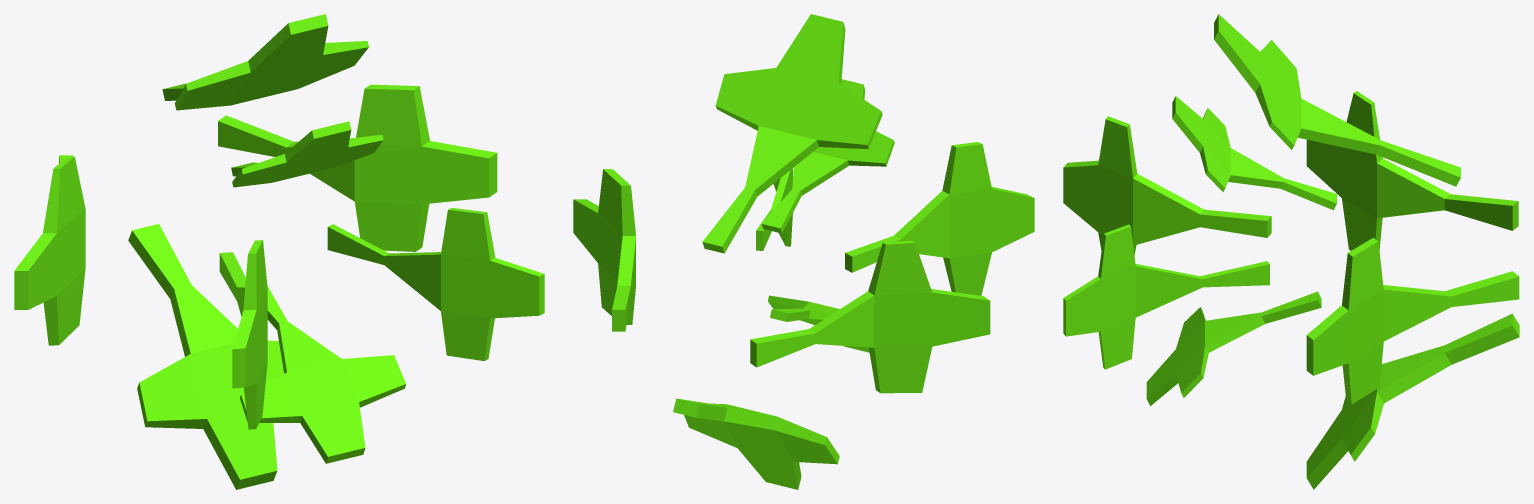
Rendered from CeleryLeaves.obj.
3 views of the same model, side by side, from view 1: azimuth 30°, elevation 25°; view 2: azimuth 150°, elevation 25°; view 3: azimuth 270°, elevation 25° (orthographic). The views are drawn at different scales.
Visible parts, largest first — view 1: leek.001; view 2: leek.001; view 3: leek.001.
Boxes of the visible parts, left/top/right/bottom form: leek.001: left=14, top=14, right=544, bottom=489; leek.001: left=573, top=14, right=1034, bottom=489; leek.001: left=1063, top=14, right=1519, bottom=489.
Size of the model in its own units: 0.1432 by 0.1429 by 0.1287.
